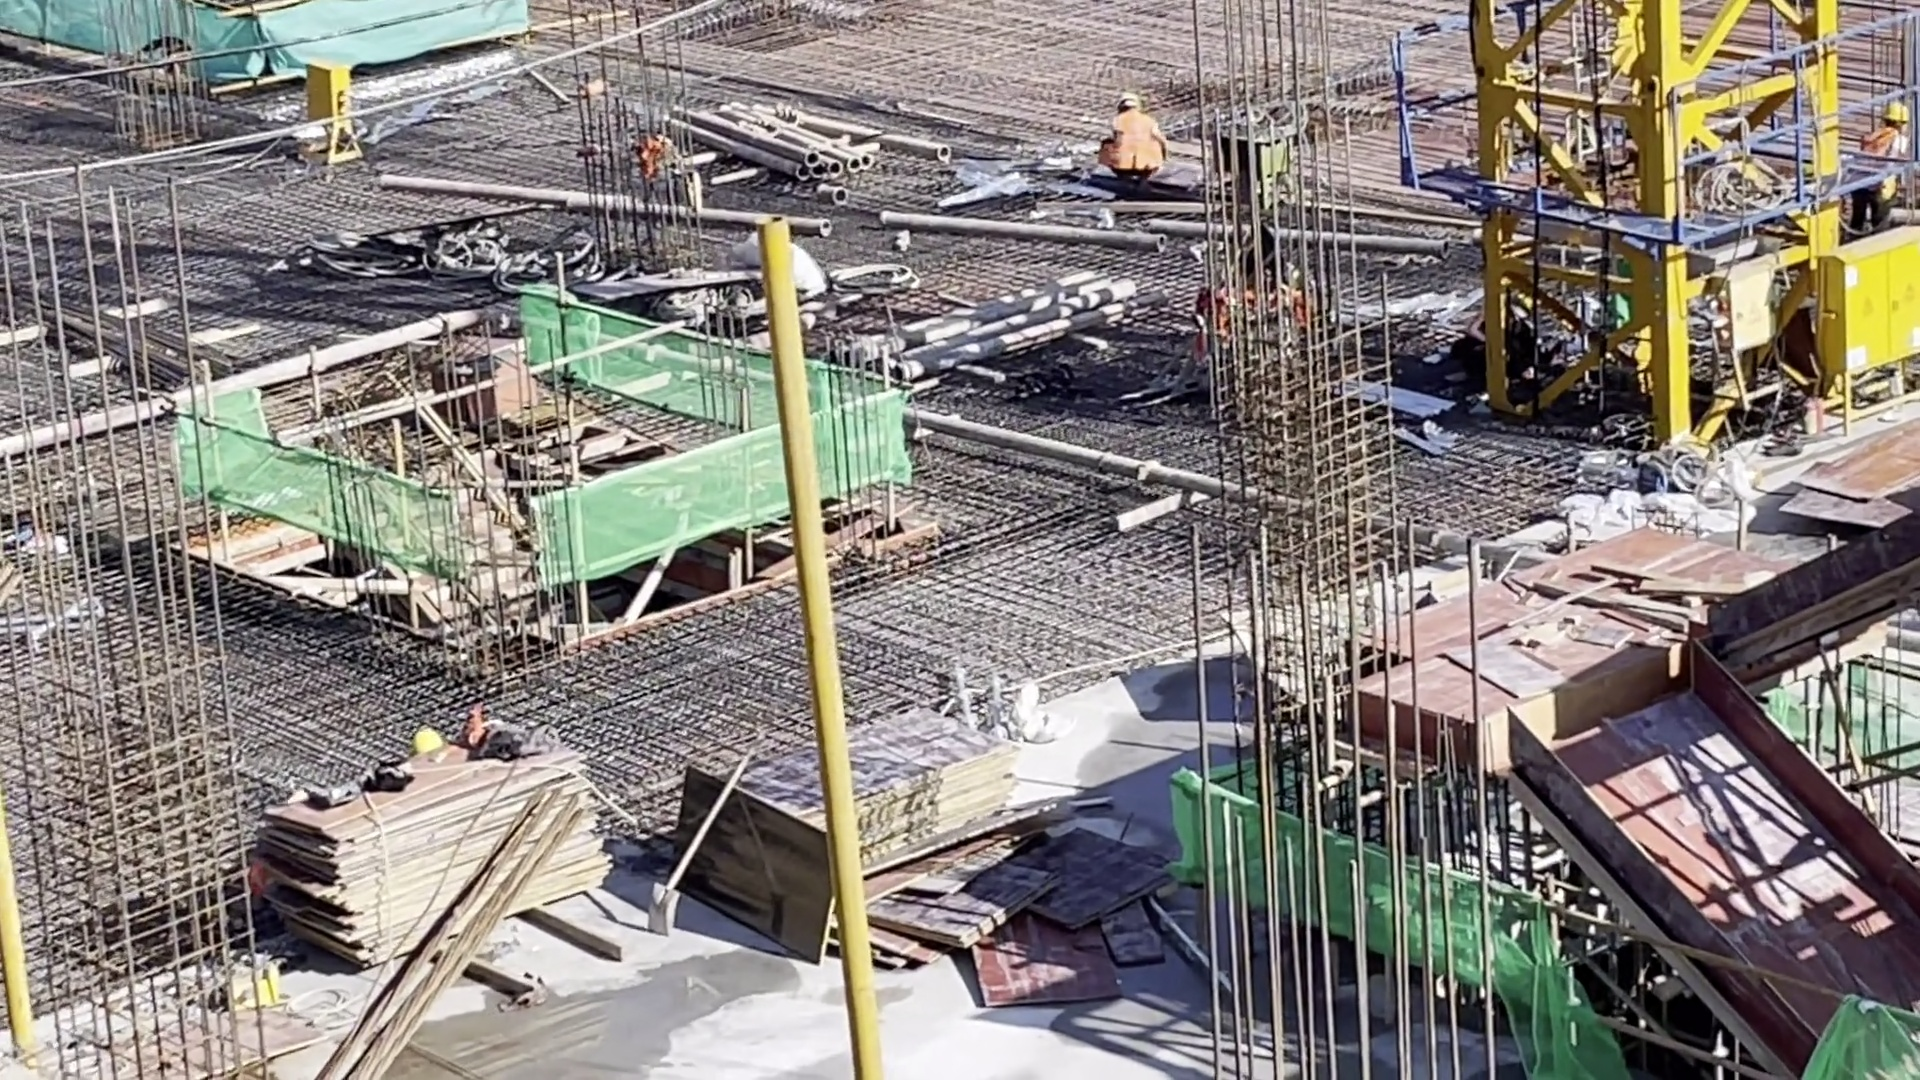board: (257, 727, 614, 972), (706, 701, 1022, 861)
ebox: (1811, 225, 1920, 434), (306, 57, 362, 172)
helmet: (1883, 97, 1909, 128), (412, 728, 441, 750), (1117, 88, 1137, 107)
person: (1096, 90, 1167, 193), (1860, 93, 1907, 220)
vest: (1102, 110, 1163, 176)
